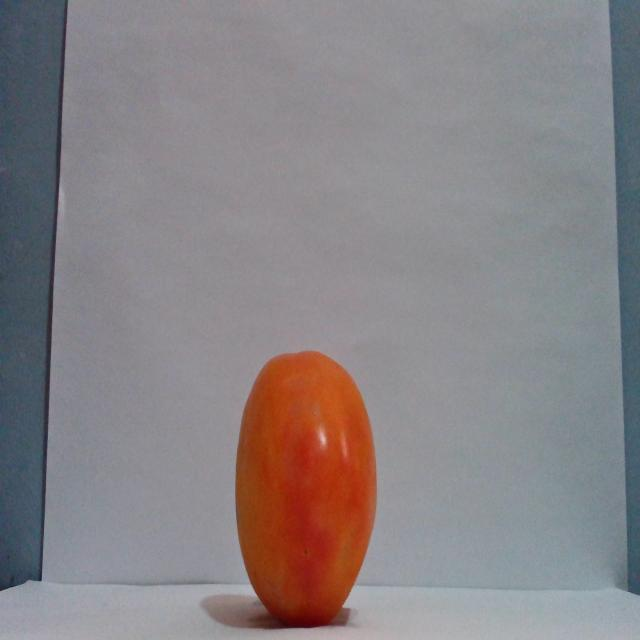Red: (233, 348, 378, 627)
